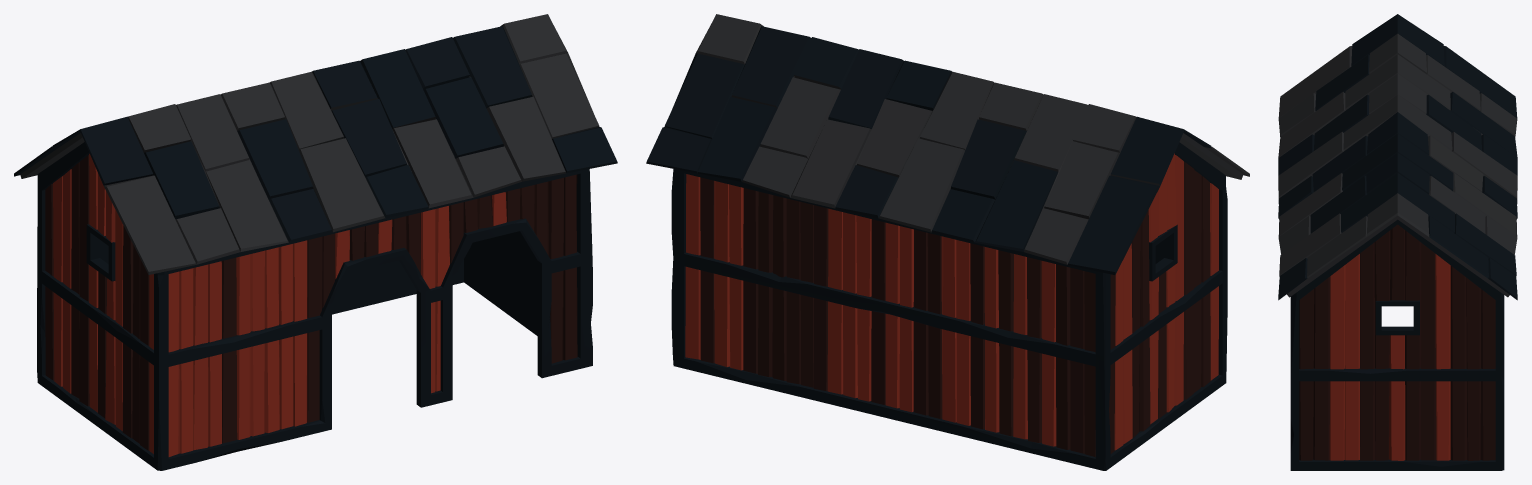
Rendered from Shed_1a.fbx.
The picture shows the model from 3 angles, left to right: view 1: azimuth 30°, elevation 25°; view 2: azimuth 150°, elevation 25°; view 3: azimuth 270°, elevation 25°; orthographic projection. The views are drawn at different scales.
Visible parts, largest first — view 1: Shed_1a; view 2: Shed_1a; view 3: Shed_1a.
Boxes of the visible parts, x1,y1,x2,y2 form: Shed_1a: [14, 14, 617, 470]; Shed_1a: [646, 14, 1249, 470]; Shed_1a: [1278, 14, 1517, 470].
Bounding box in the file's own units: 368 × 226 × 185.
